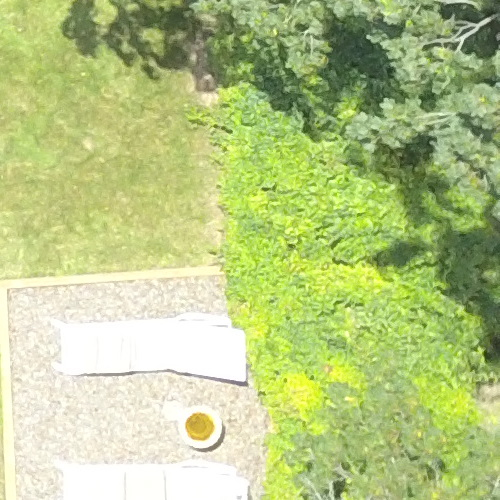bird bath: (169, 399, 232, 458)
larvae: (168, 398, 231, 457)
